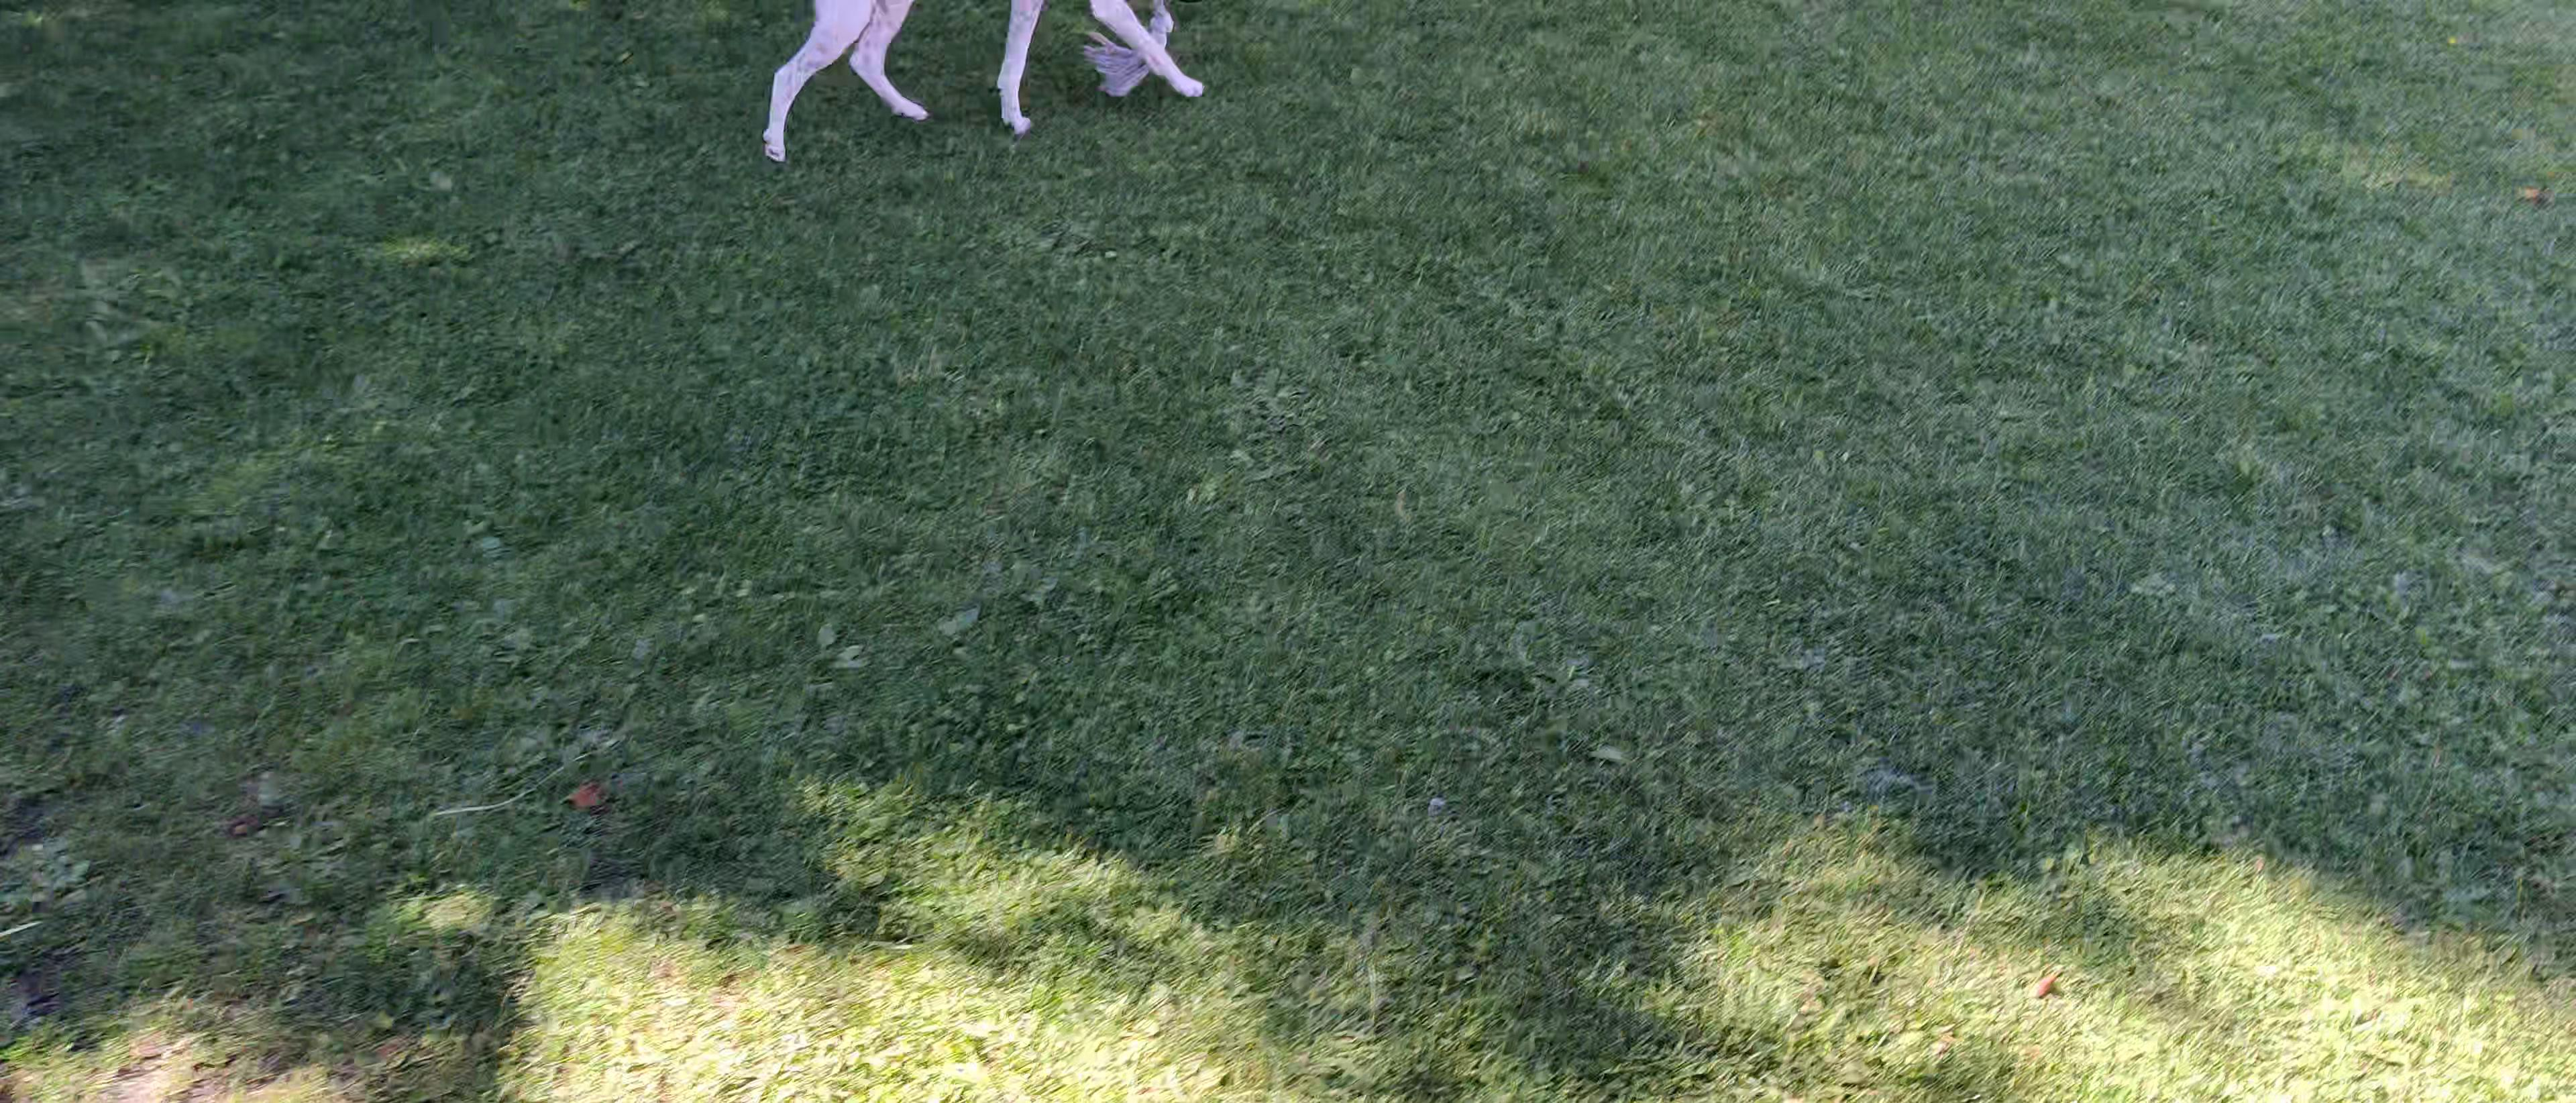Dog: (759, 0, 1206, 166)
